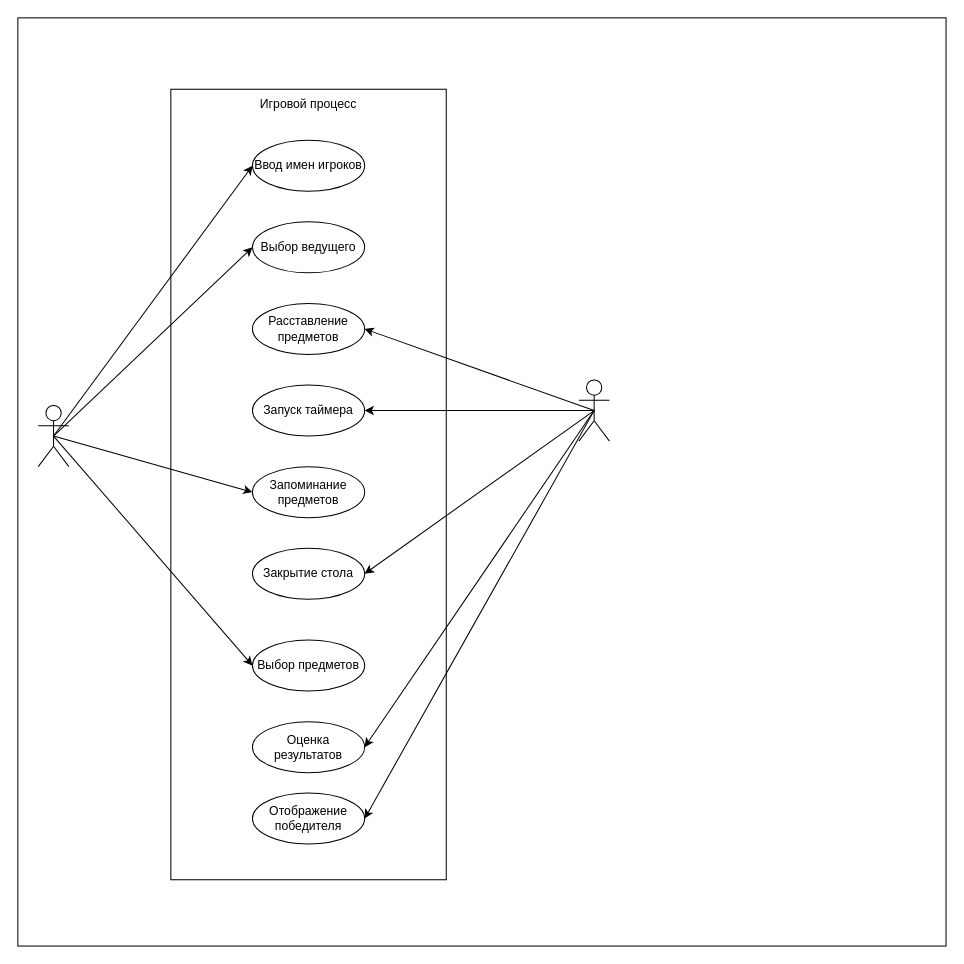
The diagram is 964 pixels wide and 964 high, and some of its shapes have lost their labels. The box of each missing label's shape, as (x1, y1, x2, y2) in pixels:
Ведущий: (578, 379, 609, 441)
Игрок: (37, 404, 69, 467)
